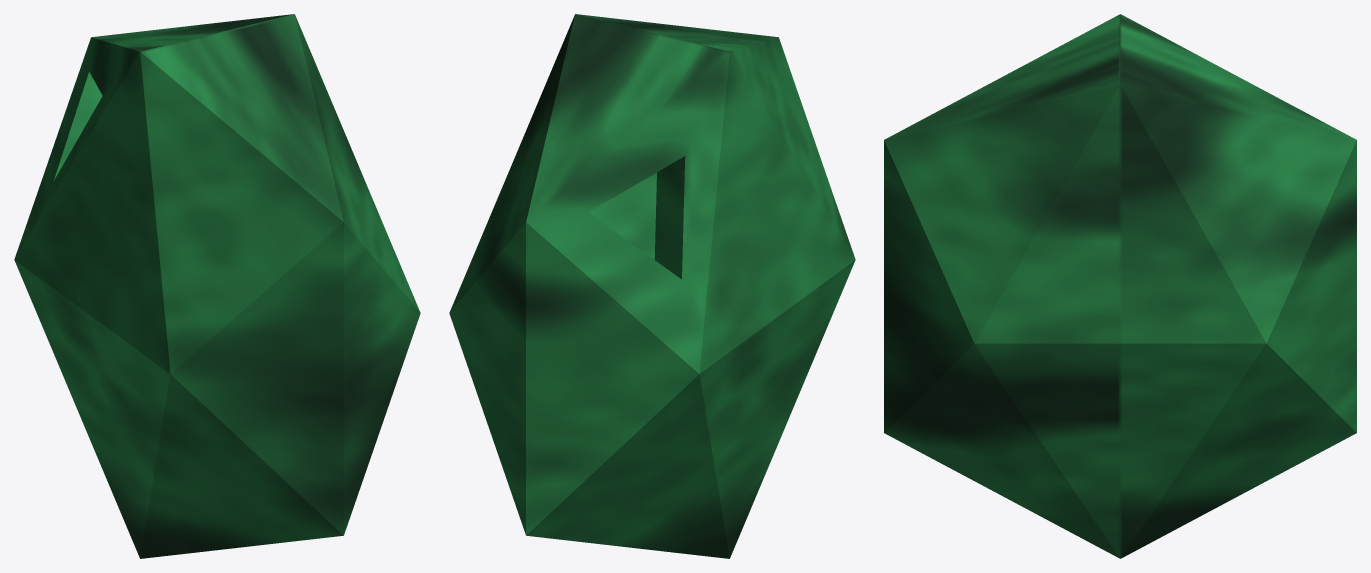
3 renders of one model, left to right at view 1: azimuth 30°, elevation 25°; view 2: azimuth 150°, elevation 25°; view 3: azimuth 270°, elevation 25°, orthographic. The views are drawn at different scales.
Parts seen in each view (by area): view 1: geometry_0; view 2: geometry_0; view 3: geometry_0.
Boxes of the visible parts, x1,y1,x2,y2 form: geometry_0: [14, 14, 420, 558]; geometry_0: [449, 14, 855, 558]; geometry_0: [884, 14, 1356, 558].
Size of the model in its own units: 0.5965 by 1.16 by 1.04.
Materials: 1 (1 with a texture image).
